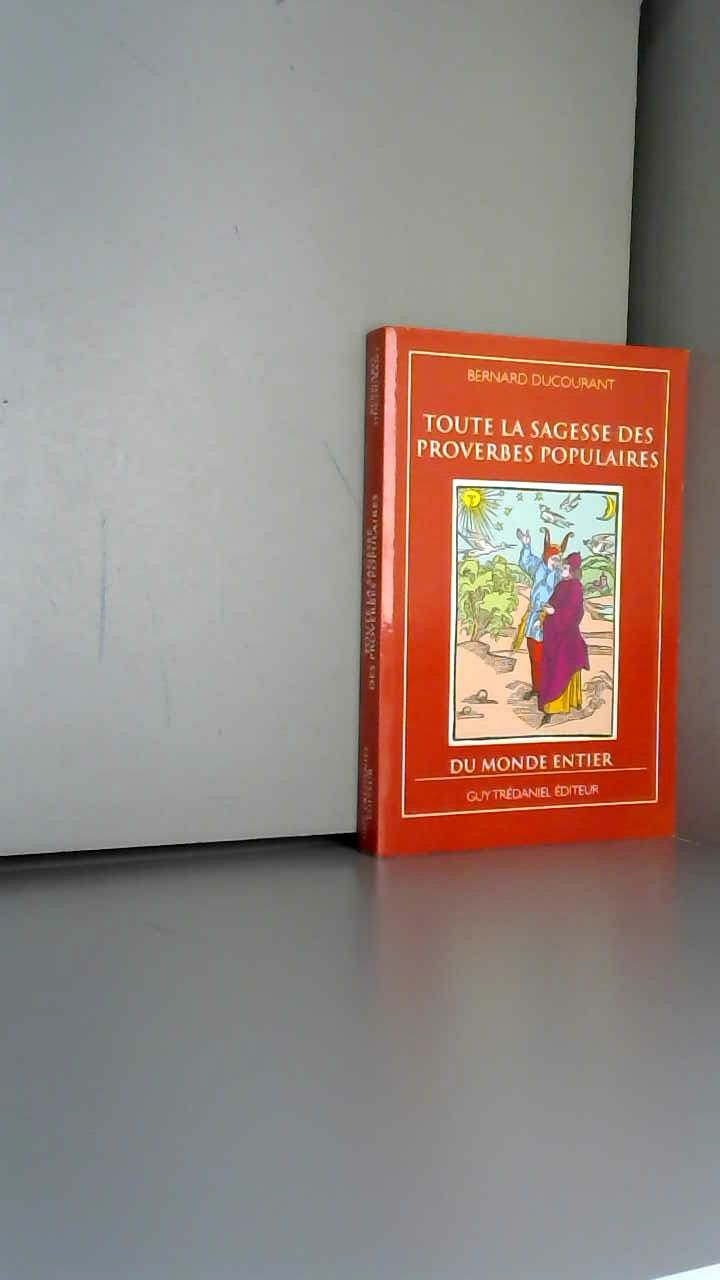book: (330, 300, 720, 944)
